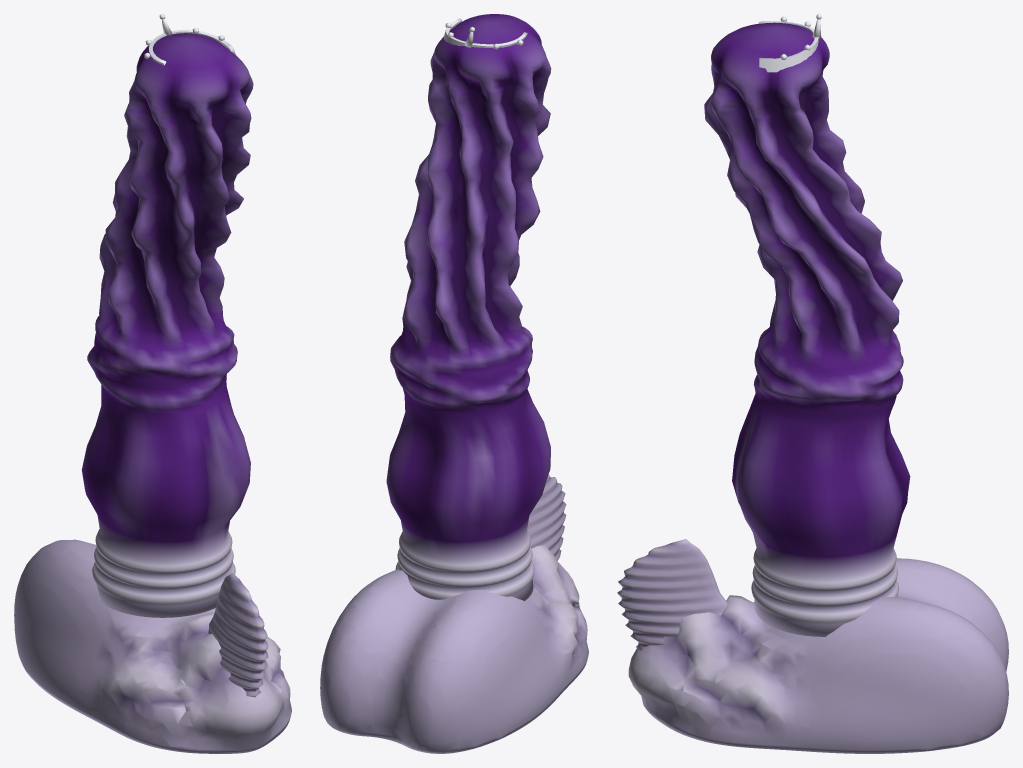
Rendered from queen_purple.glb.
3 views of the same model, side by side, from view 1: azimuth 30°, elevation 25°; view 2: azimuth 150°, elevation 25°; view 3: azimuth 270°, elevation 25° (orthographic). The views are drawn at different scales.
Parts seen in each view (by area): view 1: queen, tiara; view 2: queen, tiara; view 3: queen, tiara.
Part boxes in pixels (left/top/right/bottom): queen: left=14, top=33, right=291, bottom=753; tiara: left=144, top=14, right=235, bottom=65; queen: left=320, top=14, right=588, bottom=753; tiara: left=444, top=18, right=527, bottom=49; queen: left=617, top=22, right=1008, bottom=753; tiara: left=759, top=14, right=821, bottom=72.
Bounding box in the file's own units: 0.3419 × 1.17 × 0.6006.
